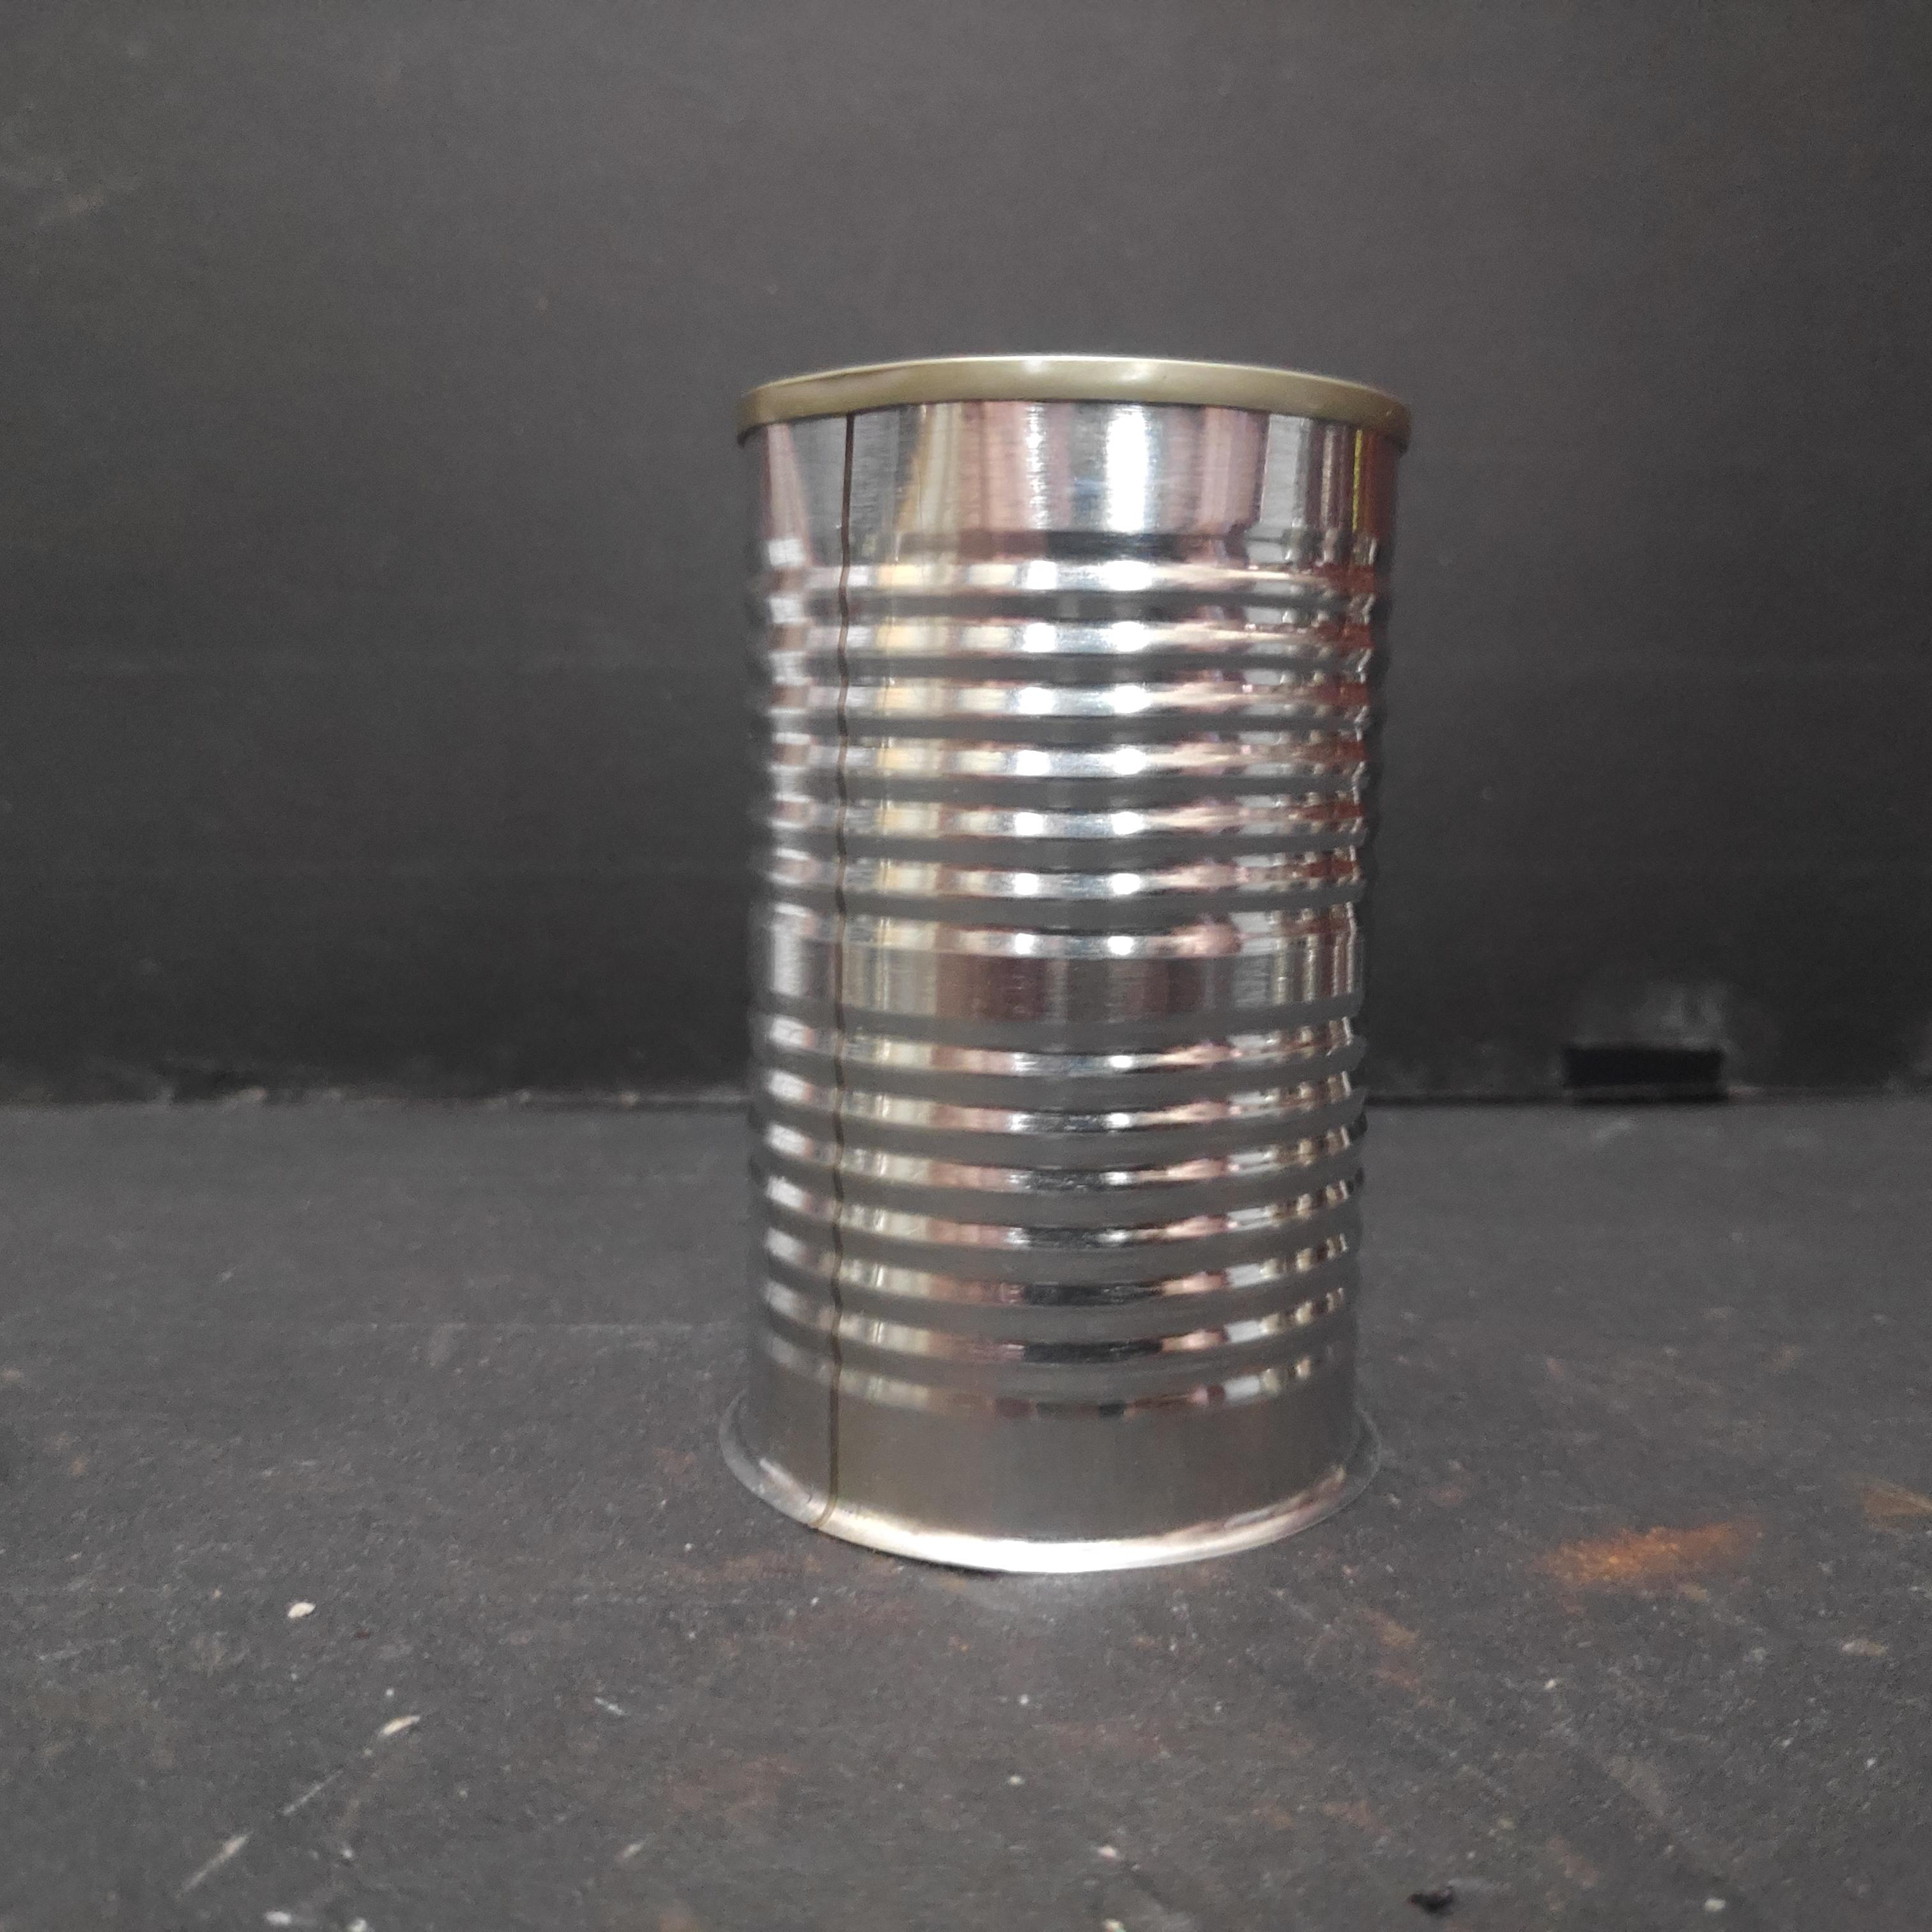Minor Defect: (724, 345, 1424, 1587)
